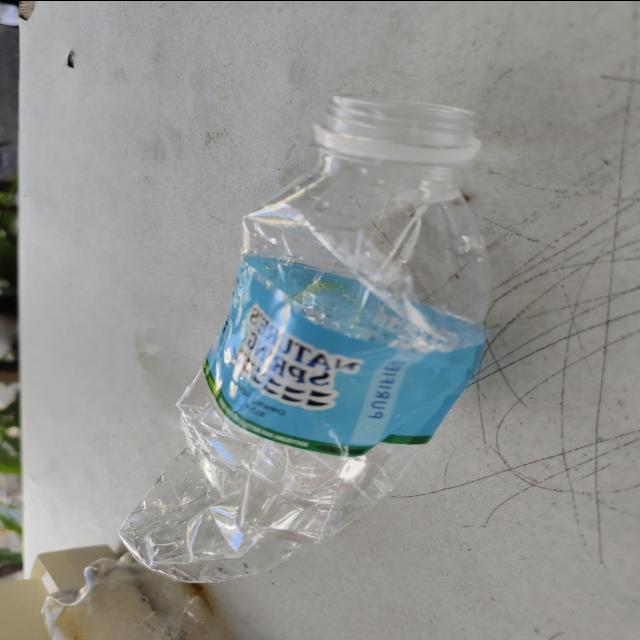Bottle: (118, 94, 489, 581)
